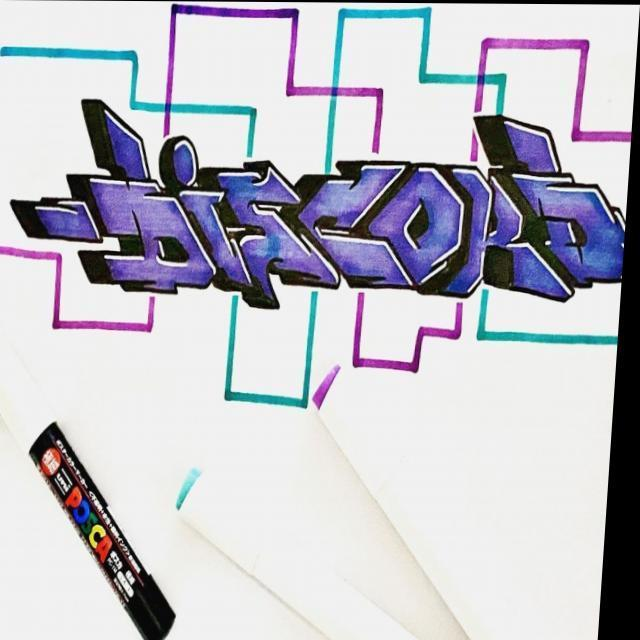-: (0, 35, 638, 396)
